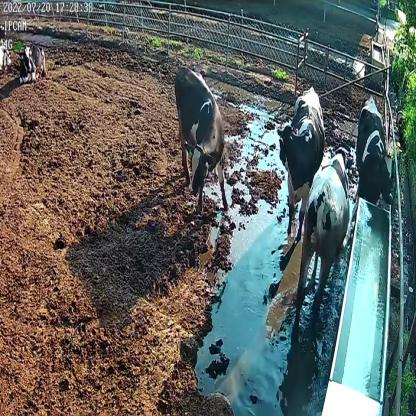cow: (295, 143, 350, 322), (170, 63, 232, 213), (275, 83, 325, 236), (355, 93, 395, 214), (15, 44, 48, 83)
